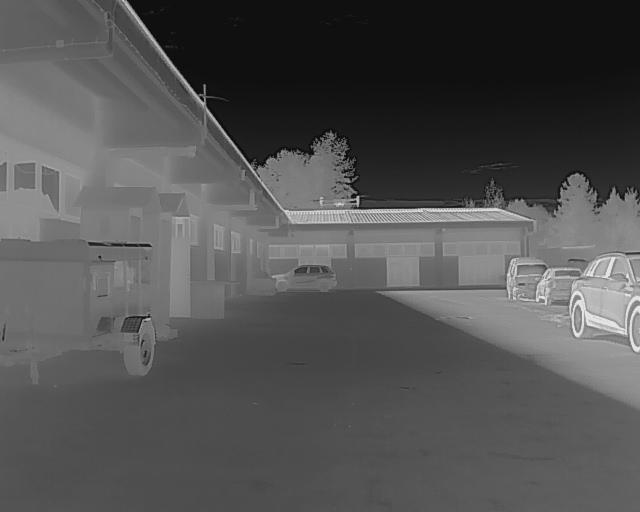drone: (312, 183, 368, 223)
